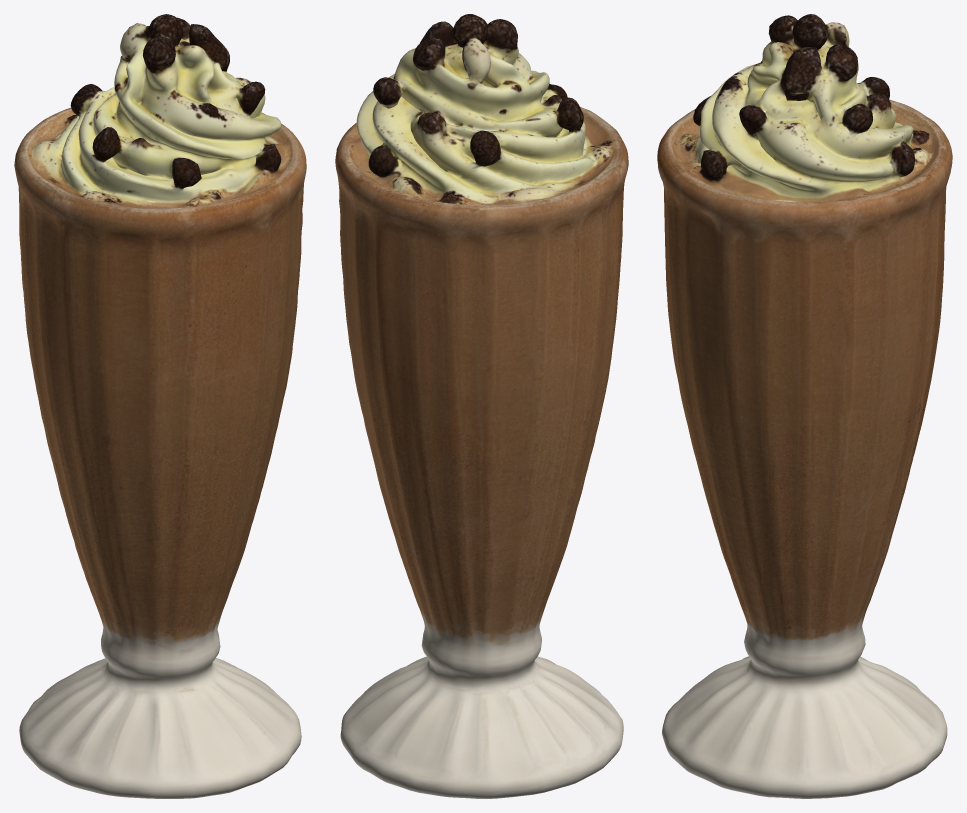
The model's file is chocolate-milkshake.glb.
The picture shows the model from 3 angles, left to right: view 1: azimuth 30°, elevation 25°; view 2: azimuth 150°, elevation 25°; view 3: azimuth 270°, elevation 25°; orthographic projection.
Visible parts, largest first — view 1: tripo_node_4f93d8d5; view 2: tripo_node_4f93d8d5; view 3: tripo_node_4f93d8d5.
Part boxes in pixels (x1,y1,x2,y2): tripo_node_4f93d8d5: (14, 14, 306, 798); tripo_node_4f93d8d5: (335, 14, 628, 798); tripo_node_4f93d8d5: (657, 14, 952, 798).
Size of the model in its own units: 0.3643 by 0.9991 by 0.3661.
1 material, 1 textured.
